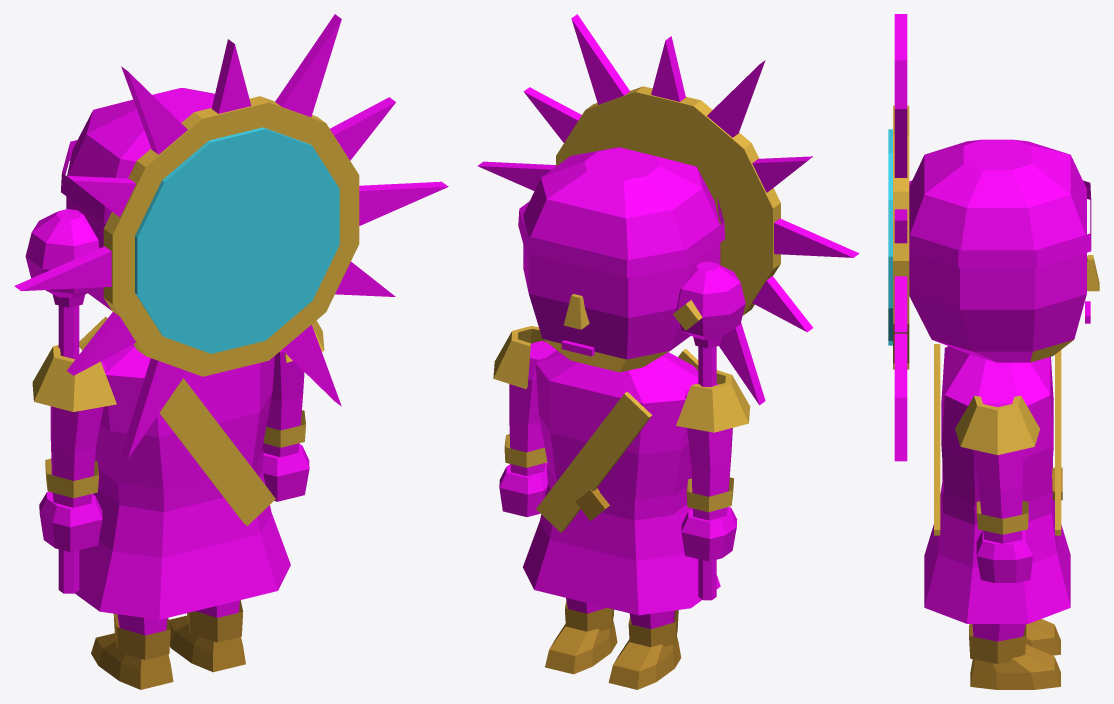
The model's file is CH_GoldenIdol_JadeIdol.fbx.
The picture shows the model from 3 angles, left to right: view 1: azimuth 30°, elevation 25°; view 2: azimuth 150°, elevation 25°; view 3: azimuth 270°, elevation 25°; orthographic projection. The views are drawn at different scales.
Parts seen in each view (by area): view 1: Head, Body, ArmL, ArmR, LegL, LegR; view 2: Head, Body, ArmL, ArmR, LegL, LegR; view 3: Head, Body, ArmR, LegR, LegL.
Boxes of the visible parts, x1,y1,x2,y2 form: Head: [14, 14, 448, 458]; Body: [75, 316, 290, 619]; ArmL: [25, 209, 116, 593]; ArmR: [262, 320, 324, 501]; LegL: [91, 613, 173, 689]; LegR: [169, 600, 245, 672]; Head: [477, 14, 859, 405]; Body: [523, 349, 720, 615]; ArmL: [673, 261, 750, 600]; ArmR: [493, 326, 556, 516]; LegL: [608, 610, 681, 689]; LegR: [545, 598, 617, 674]; Head: [888, 14, 1099, 461]; Body: [924, 344, 1070, 623]; ArmR: [955, 395, 1039, 582]; LegR: [969, 624, 1060, 689]; LegL: [970, 619, 1060, 655].
Bounding box in the file's own units: 1.24 × 0.5829 × 1.84.
